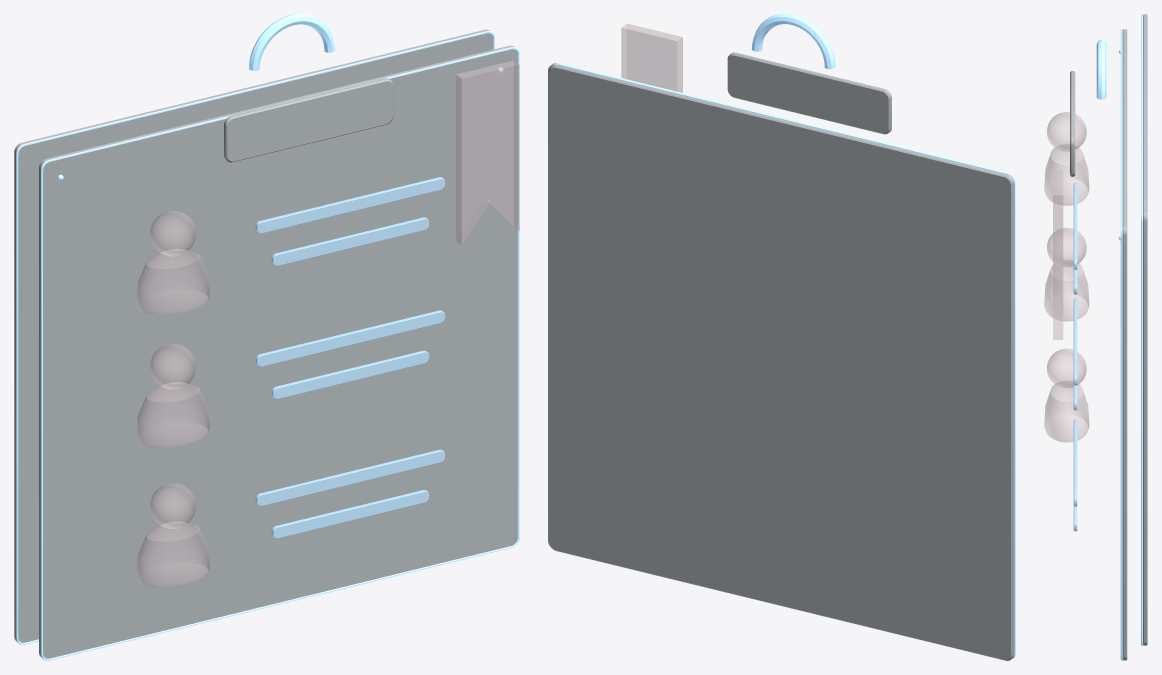
Rendered from 30-registry.glb.
3 renders of one model, left to right at view 1: azimuth 30°, elevation 25°; view 2: azimuth 150°, elevation 25°; view 3: azimuth 270°, elevation 25°, orthographic. The views are drawn at different scales.
Parts seen in each view (by area): view 1: BC thin clear technical glass, BC subtle ruby technical glass, BC etched pale glass, BC cool glass edge; view 2: BC thin clear technical glass, BC cool glass edge, BC subtle ruby technical glass; view 3: BC subtle ruby technical glass, BC thin clear technical glass, BC cool glass edge, BC etched pale glass.
Part boxes in pixels (left/top/right/bottom): BC thin clear technical glass: left=14, top=29, right=517, bottom=658; BC subtle ruby technical glass: left=136, top=60, right=519, bottom=587; BC etched pale glass: left=255, top=177, right=445, bottom=538; BC cool glass edge: left=16, top=14, right=519, bottom=660; BC thin clear technical glass: left=548, top=52, right=1014, bottom=660; BC cool glass edge: left=552, top=14, right=1015, bottom=658; BC subtle ruby technical glass: left=621, top=23, right=682, bottom=92; BC subtle ruby technical glass: left=1044, top=112, right=1089, bottom=442; BC thin clear technical glass: left=1070, top=14, right=1147, bottom=660; BC cool glass edge: left=1096, top=14, right=1142, bottom=660; BC etched pale glass: left=1073, top=183, right=1077, bottom=531.
Bounding box in the file's own units: 1.7 × 1.97 × 0.357.
